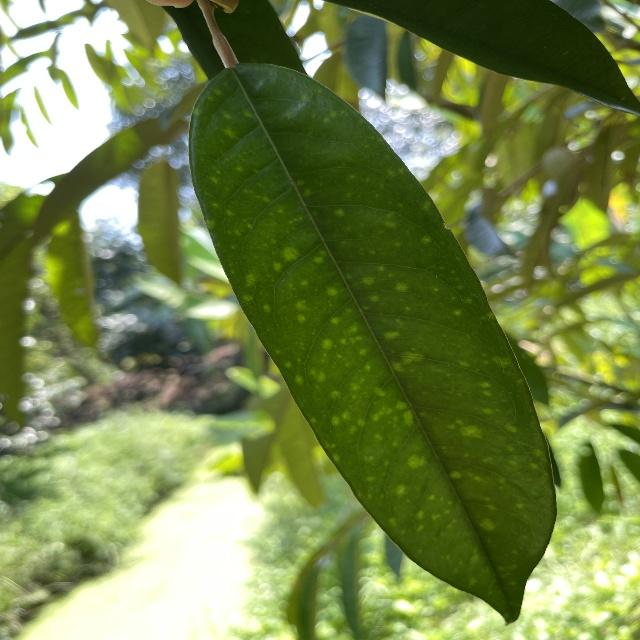Leaf Spot: (179, 57, 565, 631)
